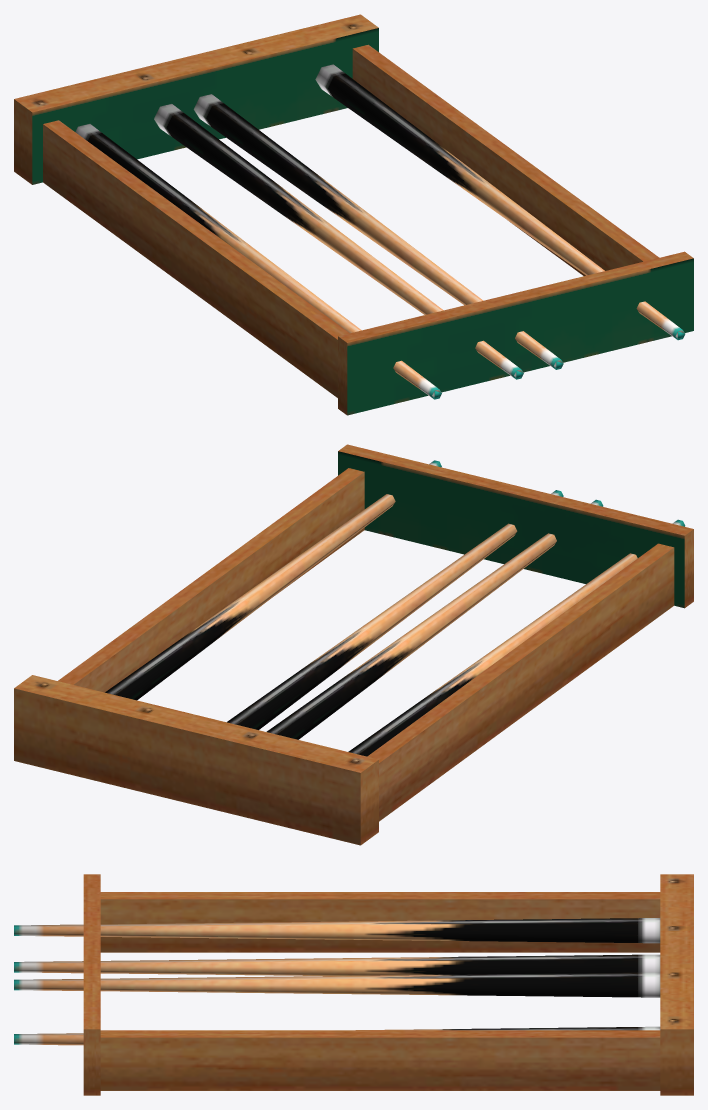
File: cuerack2.fbx
3 renders of one model, top to bottom at view 1: azimuth 30°, elevation 25°; view 2: azimuth 150°, elevation 25°; view 3: azimuth 270°, elevation 25°, orthographic. The views are drawn at different scales.
Visible parts, largest first — view 1: mesh_0; view 2: mesh_0; view 3: mesh_0.
Boxes of the visible parts, bbox=[...] form: mesh_0: bbox=[14, 14, 693, 415]; mesh_0: bbox=[14, 444, 693, 845]; mesh_0: bbox=[14, 874, 693, 1095].
Bounding box in the file's own units: 100 × 20 × 186.
Materials: 1 (1 with a texture image).
